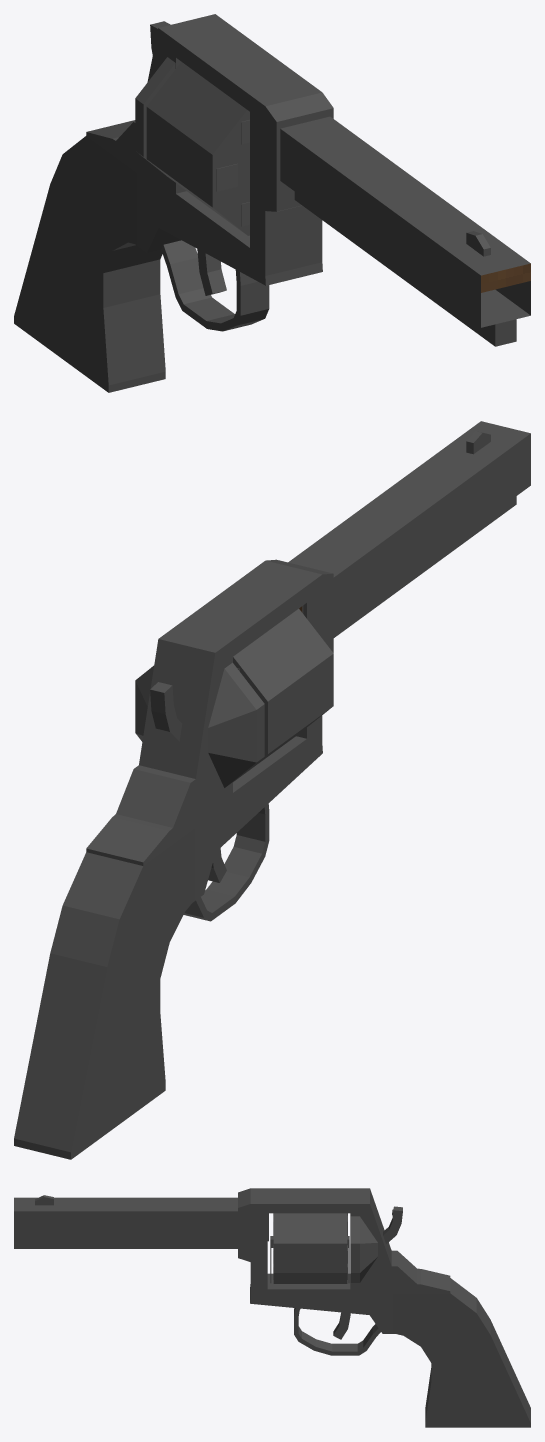
Rendered from revolver.obj.
3 views of the same model, one above another, from view 1: azimuth 30°, elevation 25°; view 2: azimuth 150°, elevation 25°; view 3: azimuth 270°, elevation 25° (orthographic). The views are drawn at different scales.
Parts seen in each view (by area): view 1: cube, spinningpart, trigger; view 2: cube, spinningpart, hammer; view 3: cube, spinningpart, hammer, trigger.
Boxes of the visible parts, x1,y1,x2,y2 form: cube: (14, 14, 530, 392); spinningpart: (146, 62, 249, 235); trigger: (197, 249, 226, 295); cube: (14, 421, 530, 1159); spinningpart: (233, 609, 333, 781); hammer: (150, 682, 181, 741); cube: (14, 1188, 530, 1427); spinningpart: (273, 1213, 347, 1283); hammer: (383, 1206, 402, 1244); trigger: (333, 1312, 350, 1339).
Bounding box in the file's own units: 0.0835 × 0.264 × 0.5527.
